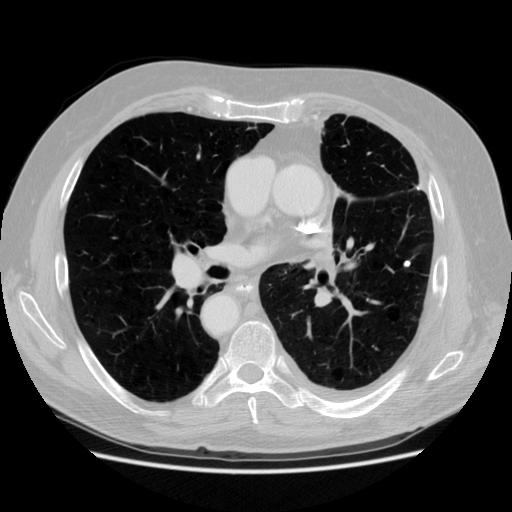nodule: (403, 258, 415, 270)
